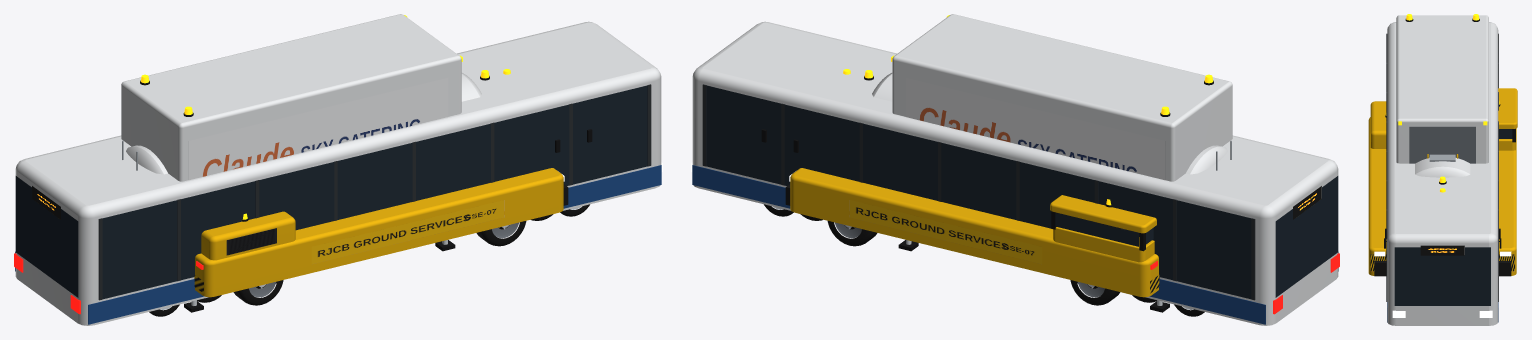
Rendered from gse.glb.
The picture shows the model from 3 angles, left to right: view 1: azimuth 30°, elevation 25°; view 2: azimuth 150°, elevation 25°; view 3: azimuth 270°, elevation 25°; orthographic projection. The views are drawn at different scales.
Parts seen in each view (by area): view 1: Bus_Body, Catering_Box, Tug_Body, Fuel_Body, Tug_W_RR, Tug_W_FR; view 2: Bus_Body, Catering_Box, Tug_Body, Fuel_Body, Tug_W_RL, Tug_W_FL; view 3: Bus_Body, Catering_Box, Tug_Body, Fuel_Body.
Part boxes in pixels (box(x1,y1,x2,y2)): Bus_Body: box(14, 21, 662, 325); Catering_Box: box(121, 14, 462, 181); Tug_Body: box(194, 168, 568, 297); Fuel_Body: box(122, 69, 592, 174); Tug_W_RR: box(233, 280, 283, 305); Tug_W_FR: box(476, 221, 526, 246); Bus_Body: box(691, 21, 1339, 325); Catering_Box: box(891, 14, 1232, 181); Tug_Body: box(785, 168, 1159, 297); Fuel_Body: box(761, 69, 1231, 174); Tug_W_RL: box(1070, 280, 1120, 305); Tug_W_FL: box(827, 221, 877, 246); Bus_Body: box(1386, 22, 1498, 325); Catering_Box: box(1396, 14, 1488, 163); Tug_Body: box(1368, 88, 1517, 276); Fuel_Body: box(1384, 154, 1501, 248).
Bounding box in the file's own units: 13.94 × 4.41 × 4.03.
Materials: 18 (3 with a texture image).
